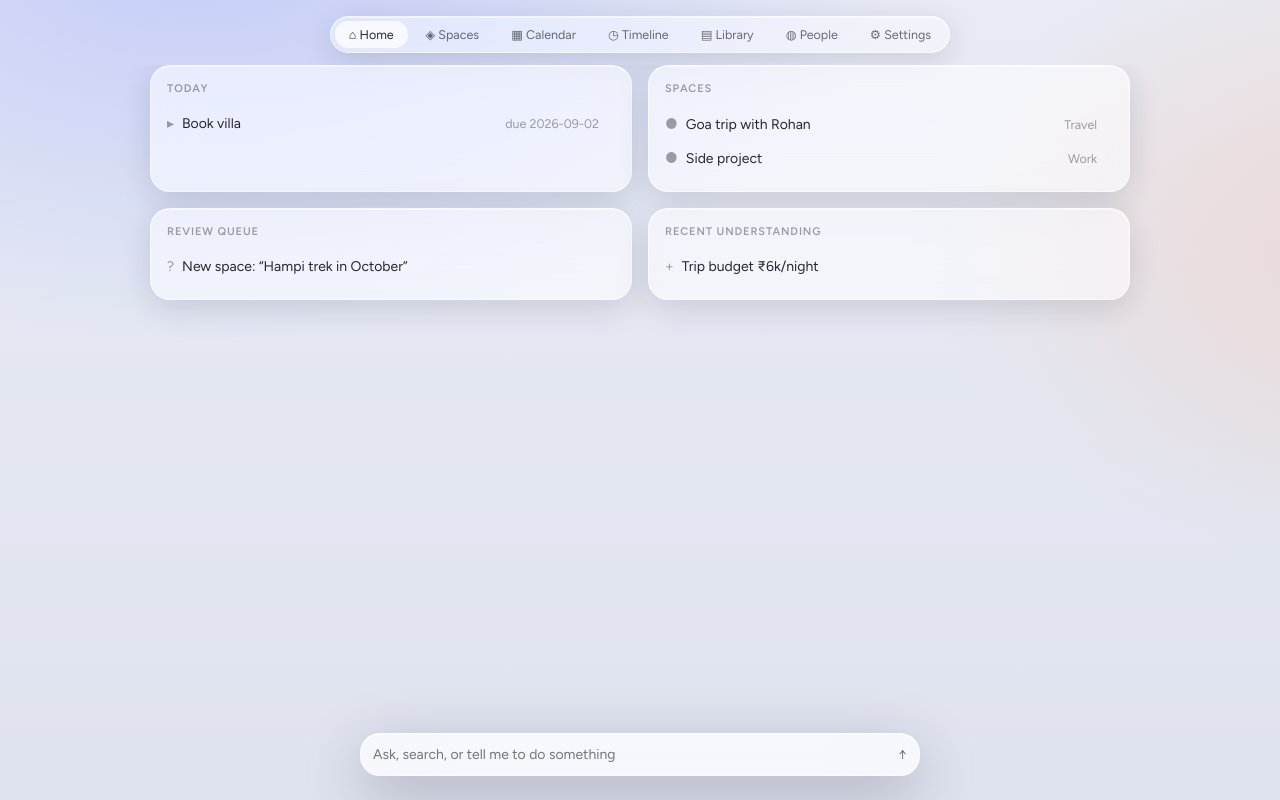
Test case: shell › opens a task modal with evidence and Esc dismisses it
Click the text "Book villa".
click(211, 124)  # box [182,115,241,132]
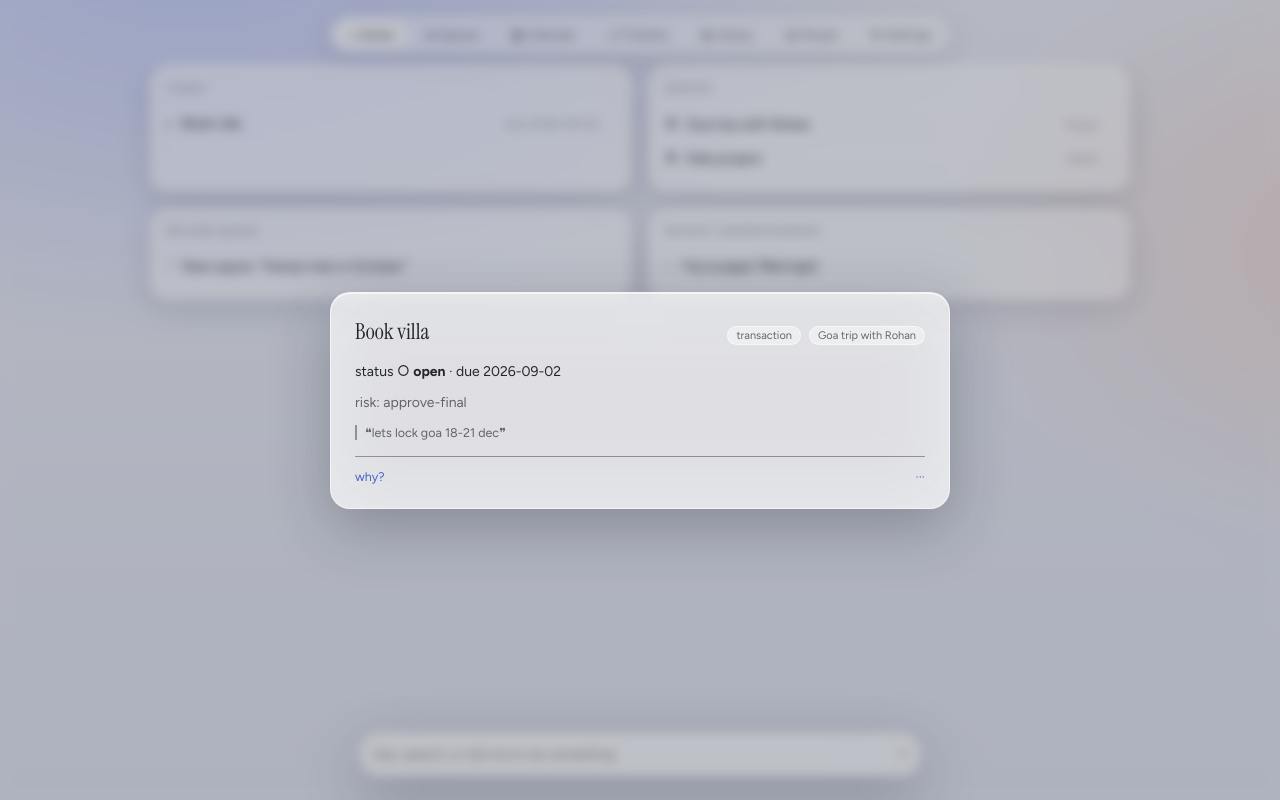
Result: the dialog "Book villa" shows "lets lock goa 18-21 dec" at [372,424,499,440]
Result: the dialog "Book villa" shows "approve-final" at [383,394,467,410]
Press Escape
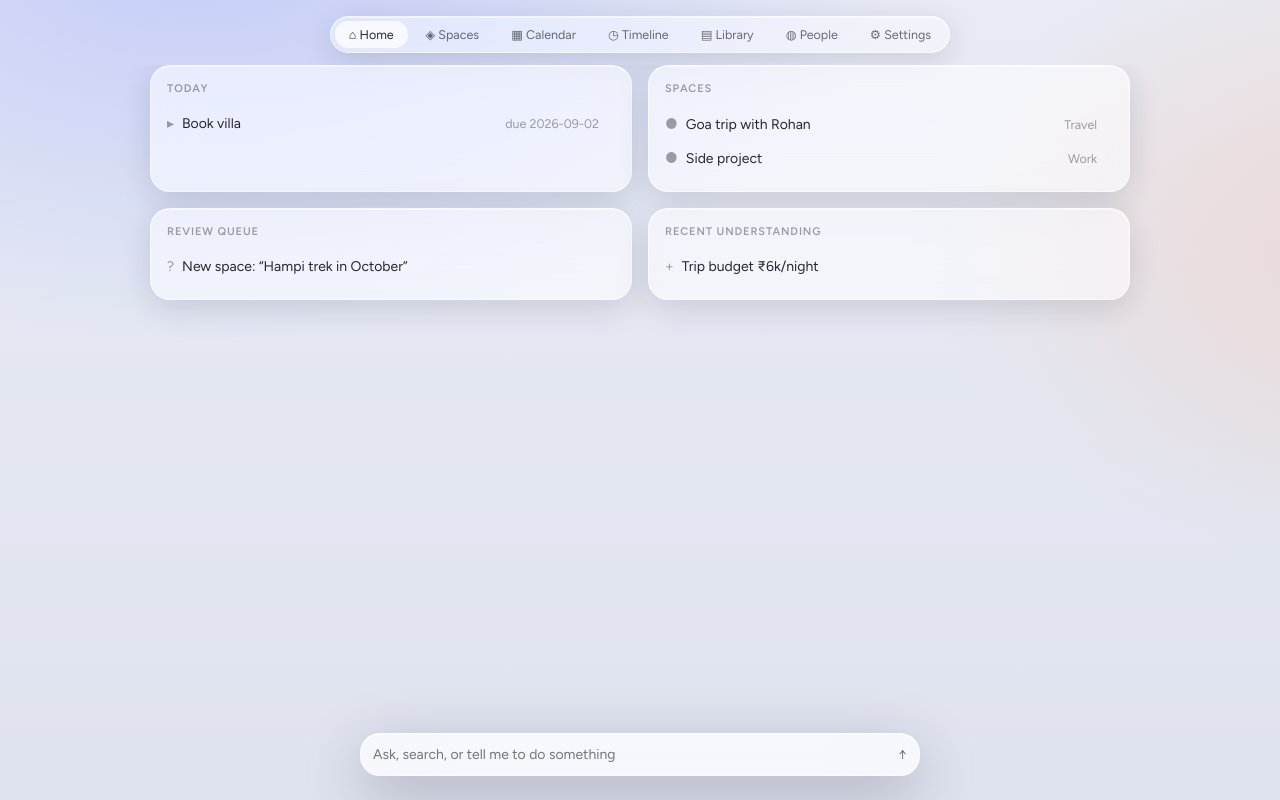
Result: the dialog is gone
